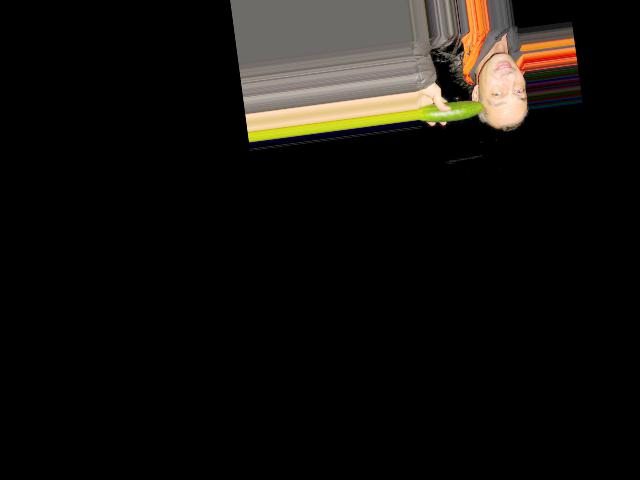cucumber: (417, 97, 485, 125)
